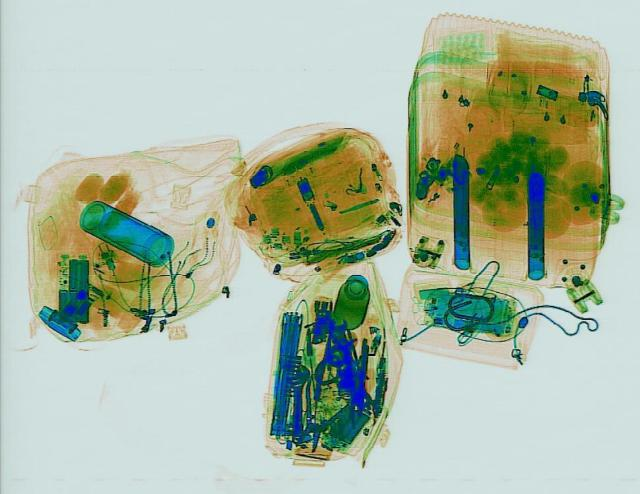Pliers: (278, 374, 358, 452)
Wrench: (324, 316, 360, 373)
